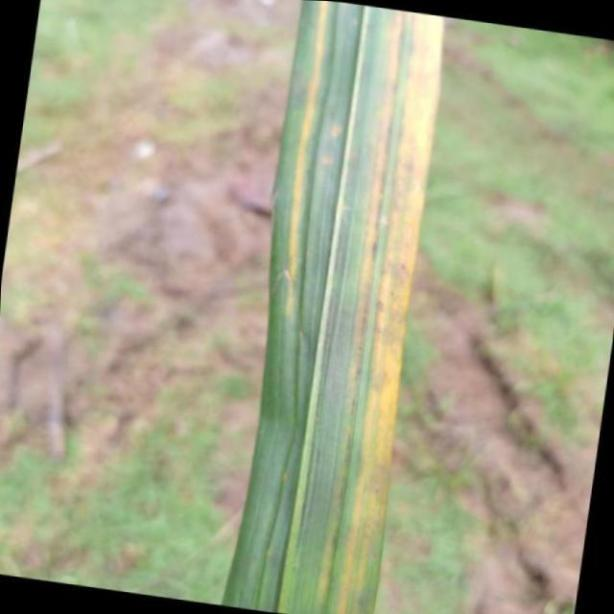Megnesium: (221, 0, 443, 614)
